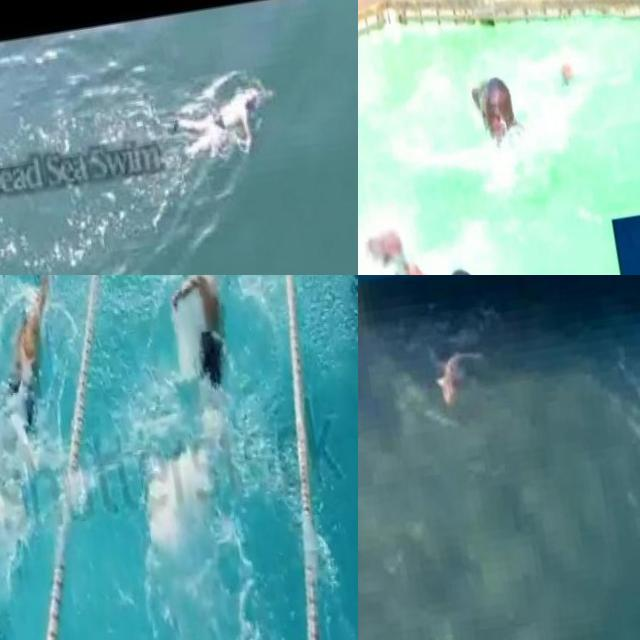swimming: (358, 166, 514, 275), (0, 275, 90, 459), (156, 275, 255, 421), (454, 59, 564, 188), (160, 78, 270, 164)
